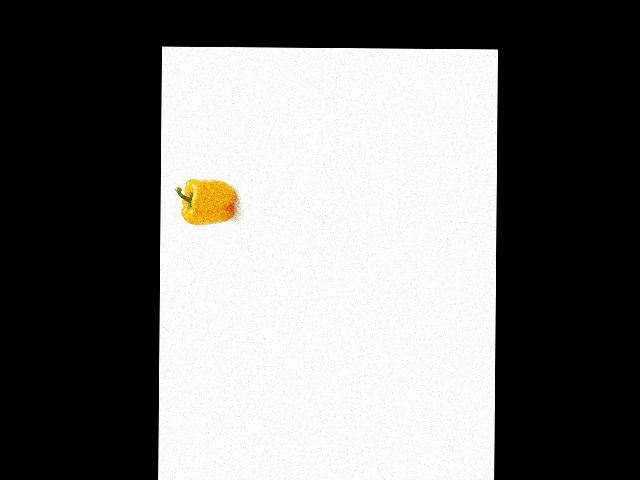bell_pepper: (172, 173, 237, 226)
